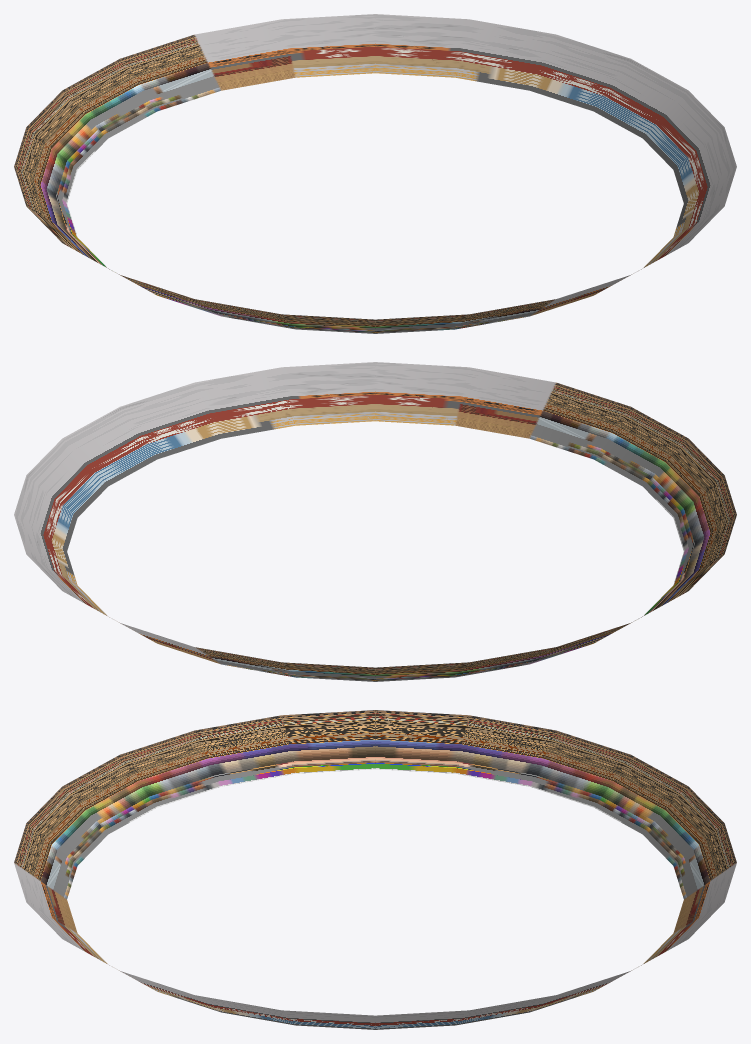
The model's file is ancient_SM_Env_Fog_Ring_01.gltf.
3 views of the same model, one above another, from view 1: azimuth 30°, elevation 25°; view 2: azimuth 150°, elevation 25°; view 3: azimuth 270°, elevation 25° (orthographic).
Visible parts, largest first — view 1: SM_Env_Fog_Ring_01; view 2: SM_Env_Fog_Ring_01; view 3: SM_Env_Fog_Ring_01.
Boxes of the visible parts, x1,y1,x2,y2 form: SM_Env_Fog_Ring_01: (14, 14, 736, 333); SM_Env_Fog_Ring_01: (14, 362, 736, 681); SM_Env_Fog_Ring_01: (14, 710, 736, 1029).
Bounding box in the file's own units: 70.17 × 3.94 × 70.17.
Materials: 1 (1 with a texture image).
